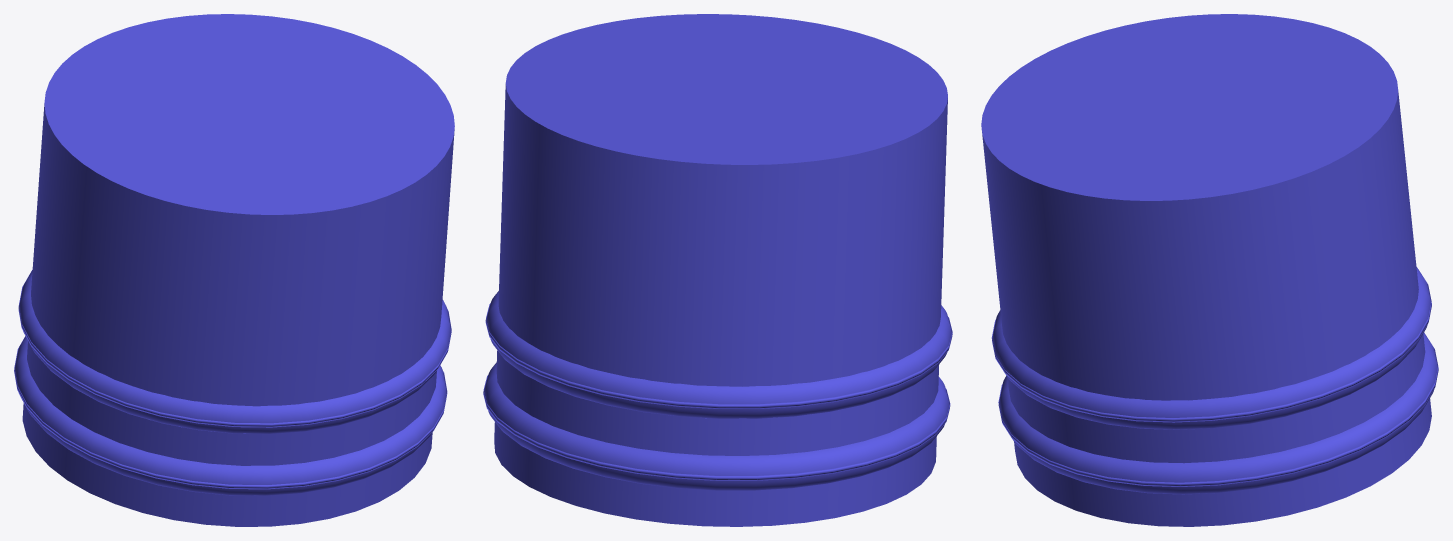
Rendered from bombilla219.obj.
3 views of the same model, side by side, from view 1: azimuth 30°, elevation 25°; view 2: azimuth 150°, elevation 25°; view 3: azimuth 270°, elevation 25° (orthographic). The views are drawn at different scales.
Parts seen in each view (by area): view 1: Cylinder001, Cylinder004, Cylinder002, Cylinder003, Cylinder006; view 2: Cylinder001, Cylinder004, Cylinder003, Cylinder006, Cylinder002; view 3: Cylinder001, Cylinder004, Cylinder003, Cylinder002, Cylinder006.
Part boxes in pixels (left/top/right/bottom): Cylinder001: left=31, top=14, right=454, bottom=406; Cylinder004: left=14, top=336, right=447, bottom=495; Cylinder002: left=18, top=270, right=451, bottom=433; Cylinder003: left=27, top=341, right=436, bottom=465; Cylinder006: left=22, top=403, right=432, bottom=526; Cylinder001: left=498, top=14, right=947, bottom=386; Cylinder004: left=483, top=362, right=950, bottom=490; Cylinder003: left=496, top=350, right=939, bottom=455; Cylinder006: left=494, top=422, right=936, bottom=526; Cylinder002: left=485, top=291, right=952, bottom=418; Cylinder001: left=981, top=14, right=1418, bottom=400; Cylinder004: left=998, top=332, right=1438, bottom=494; Cylinder003: left=1007, top=334, right=1425, bottom=463; Cylinder002: left=991, top=267, right=1431, bottom=429; Cylinder006: left=1014, top=399, right=1431, bottom=526.
Size of the model in its own units: 72.45 by 65.75 by 74.78.
